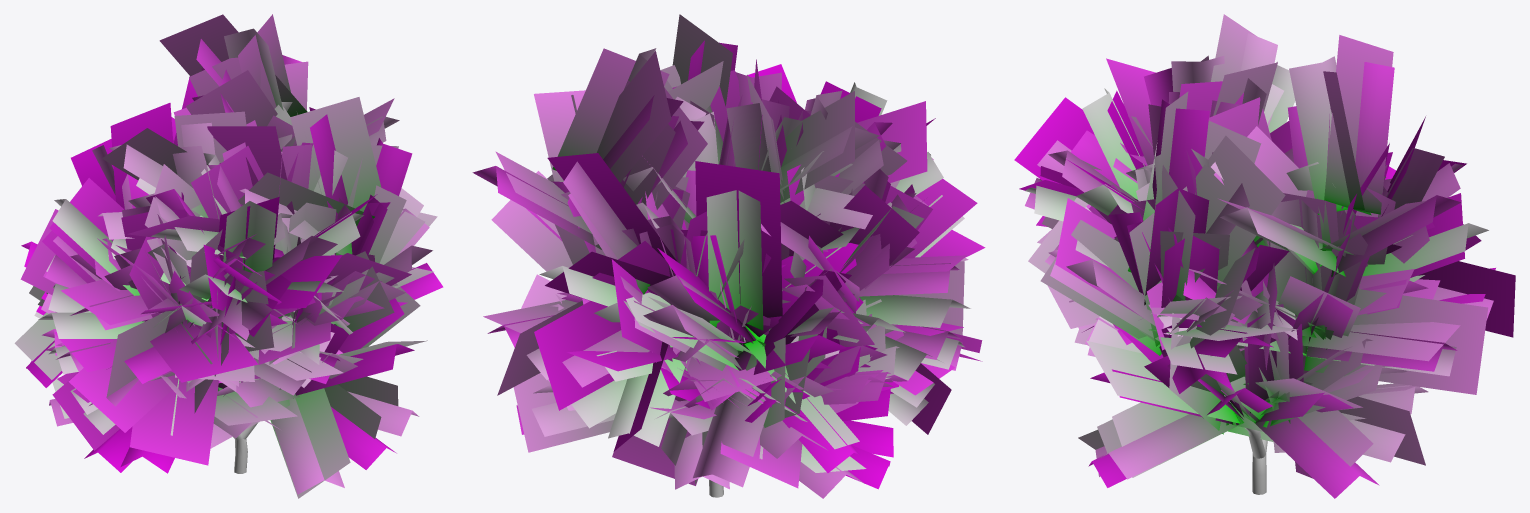
The model's file is rowan_03.fbx.
3 views of the same model, side by side, from view 1: azimuth 30°, elevation 25°; view 2: azimuth 150°, elevation 25°; view 3: azimuth 270°, elevation 25° (orthographic). The views are drawn at different scales.
Parts seen in each view (by area): view 1: rowan_leaves_03_shadow, rowan_leaves_03_lod0, rowan_tree_03_lod0; view 2: rowan_leaves_03_shadow, rowan_leaves_03_lod0; view 3: rowan_leaves_03_shadow, rowan_leaves_03_lod0, rowan_tree_03_lod0.
Boxes of the visible parts, left/top/right/bottom form: rowan_leaves_03_shadow: left=14, top=14, right=437, bottom=498; rowan_leaves_03_lod0: left=21, top=28, right=443, bottom=494; rowan_tree_03_lod0: left=233, top=423, right=257, bottom=473; rowan_leaves_03_shadow: left=483, top=14, right=985, bottom=488; rowan_leaves_03_lod0: left=472, top=40, right=970, bottom=498; rowan_leaves_03_shadow: left=1014, top=14, right=1515, bottom=478; rowan_leaves_03_lod0: left=1025, top=33, right=1493, bottom=498; rowan_tree_03_lod0: left=1224, top=395, right=1277, bottom=494.
Size of what is drawn, in the model's own units: 4.07 by 4.3 by 4.18.
